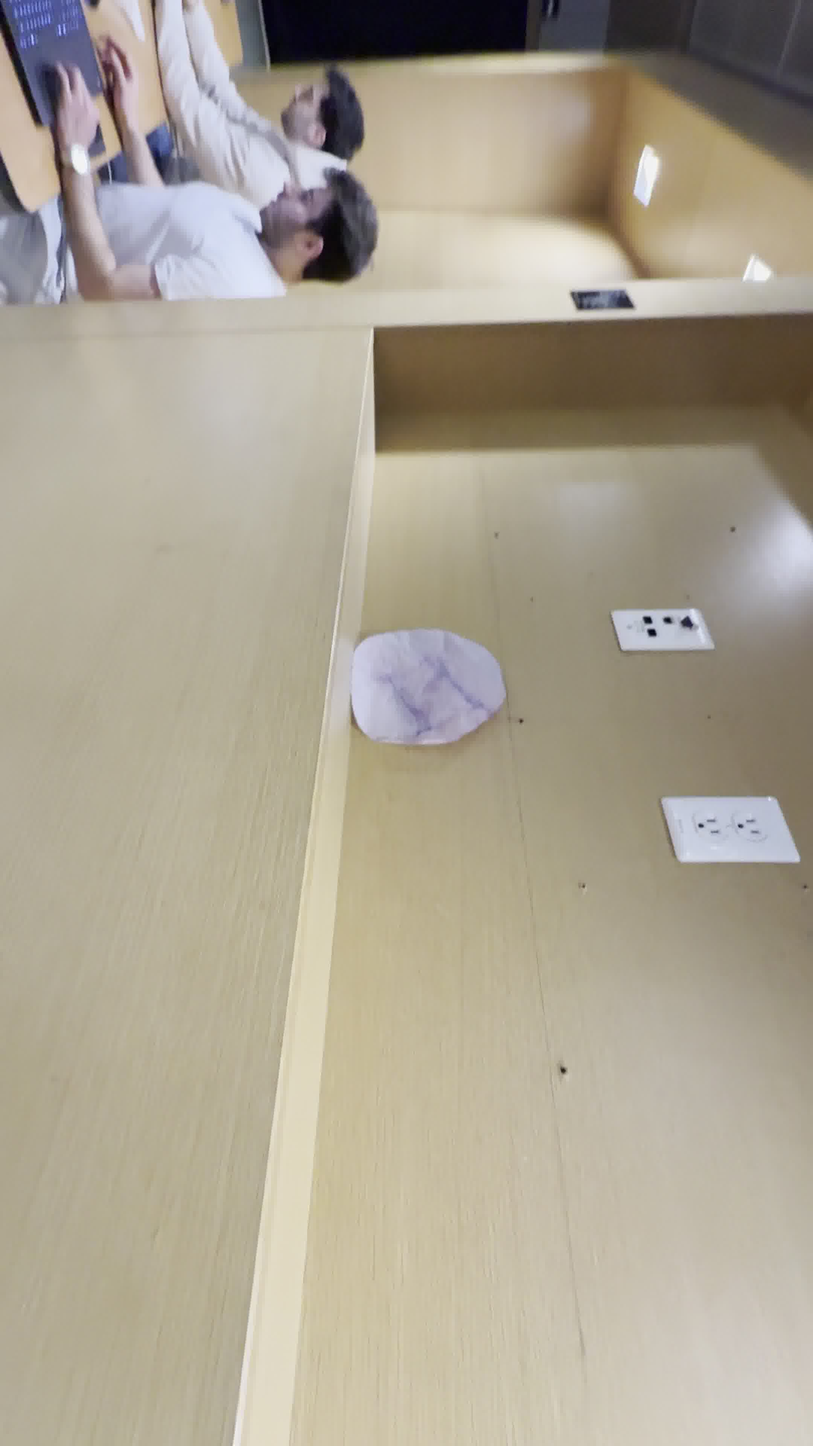Target: (355, 629, 505, 747)
